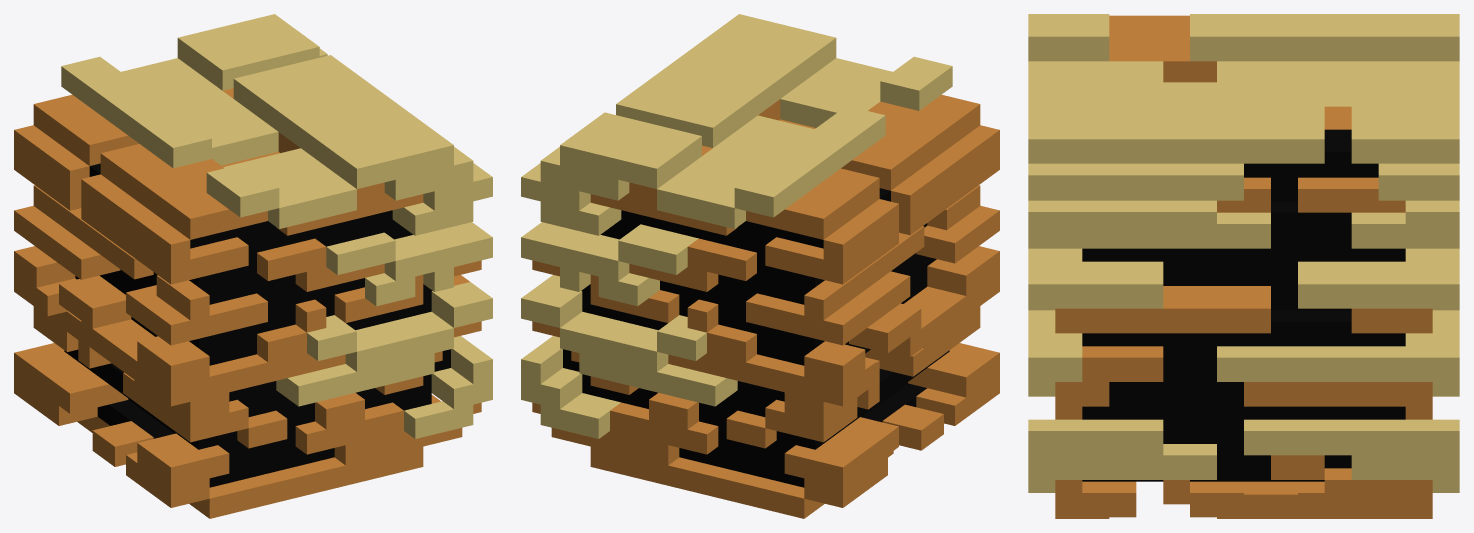
The model's file is br-c-rock-orange.fbx.
The picture shows the model from 3 angles, left to right: view 1: azimuth 30°, elevation 25°; view 2: azimuth 150°, elevation 25°; view 3: azimuth 270°, elevation 25°; orthographic projection. The views are drawn at different scales.
Parts seen in each view (by area): view 1: br_m_rock_orange; view 2: br_m_rock_orange; view 3: br_m_rock_orange.
Boxes of the visible parts, x1,y1,x2,y2 form: br_m_rock_orange: (14,14,492,518); br_m_rock_orange: (521,14,999,518); br_m_rock_orange: (1028,14,1459,518).
Bounding box in the file's own units: 1 × 1 × 0.999.
